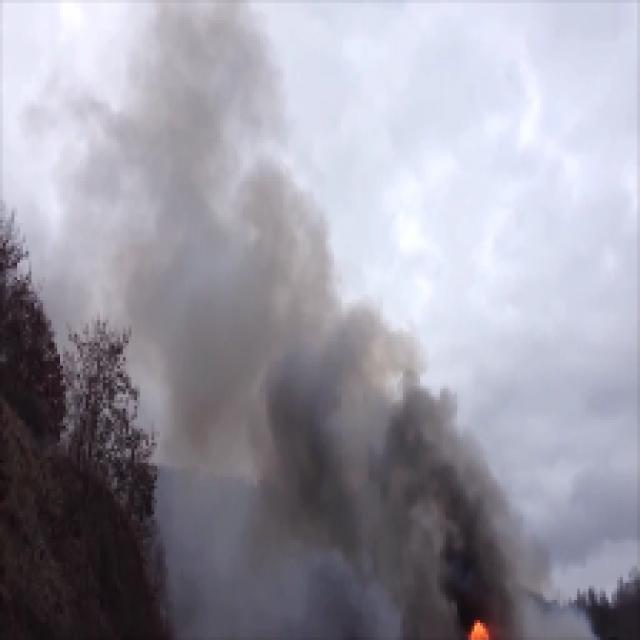Fire: (468, 616, 492, 640)
Smoke: (144, 61, 252, 400), (343, 347, 428, 636), (262, 244, 336, 524), (436, 462, 502, 604)
